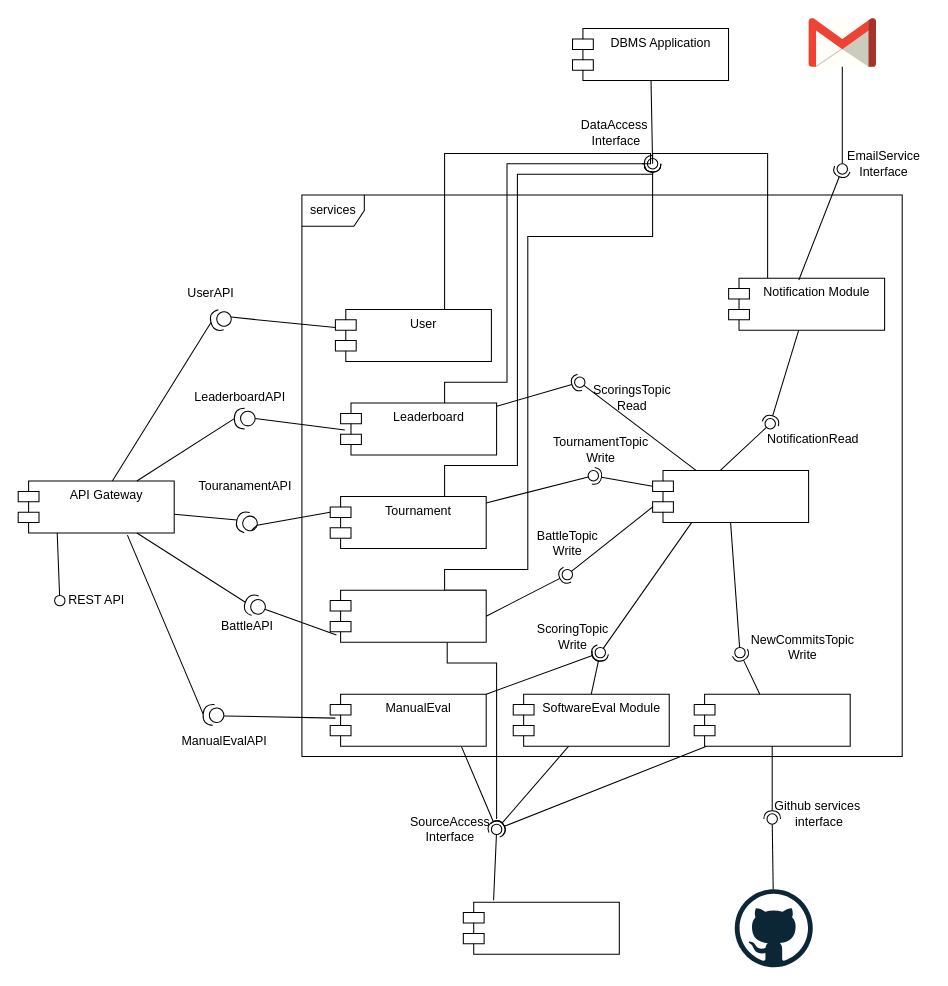
This 948x986 diagram has some shape labels left out. Each missing label, with the centre of its shape:
Battle: (407,615)
DBMS Sources: (540,927)
GitHub Handler: (771,719)
MessageBroker: (730,496)
